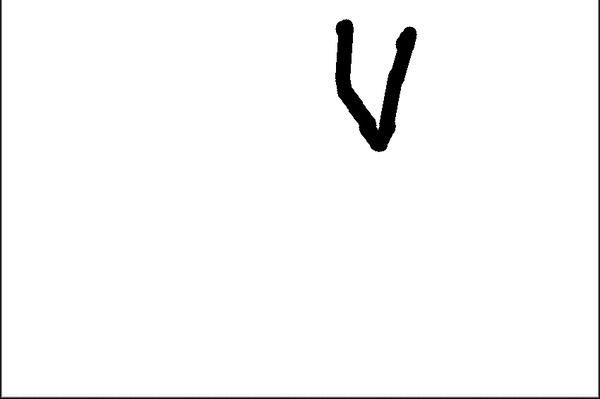V: (327, 18, 424, 155)
